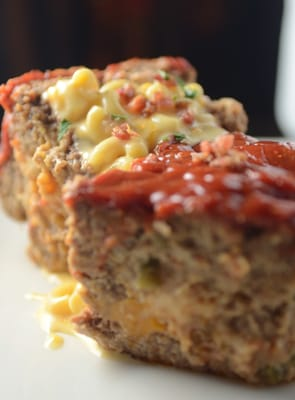sandwich: (0, 52, 295, 393)
